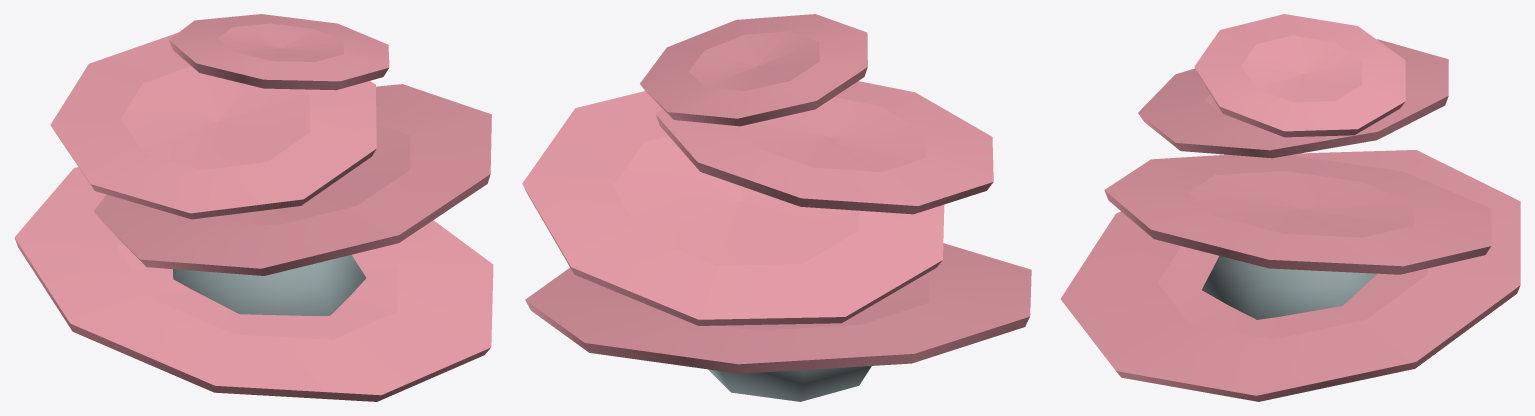
File: sunken-city-and-underwater-ruins-coral-head-plate-013ebc7d__36988.glb
3 renders of one model, left to right at view 1: azimuth 30°, elevation 25°; view 2: azimuth 150°, elevation 25°; view 3: azimuth 270°, elevation 25°, orthographic. The views are drawn at different scales.
Parts seen in each view (by area): view 1: coral-head-plate; view 2: coral-head-plate; view 3: coral-head-plate.
Boxes of the visible parts, x1,y1,x2,y2 form: coral-head-plate: (14, 14, 493, 401); coral-head-plate: (522, 14, 1031, 401); coral-head-plate: (1060, 14, 1520, 401).
Bounding box in the file's own units: 1.82 × 1.3 × 1.77.
